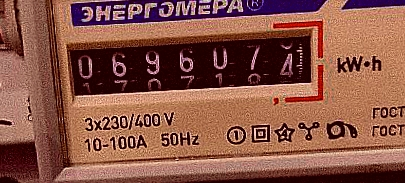0: (74, 51, 96, 80), (210, 41, 230, 71), (110, 49, 128, 76)
4: (277, 50, 296, 79)
6: (175, 43, 195, 73)
7: (243, 40, 263, 70)
9: (143, 46, 162, 75)
screen: (52, 15, 330, 114)
